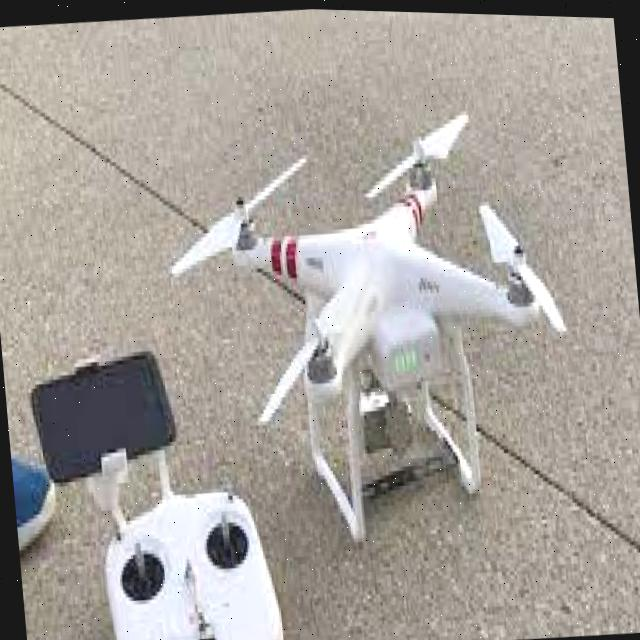drone: (152, 92, 588, 545)
